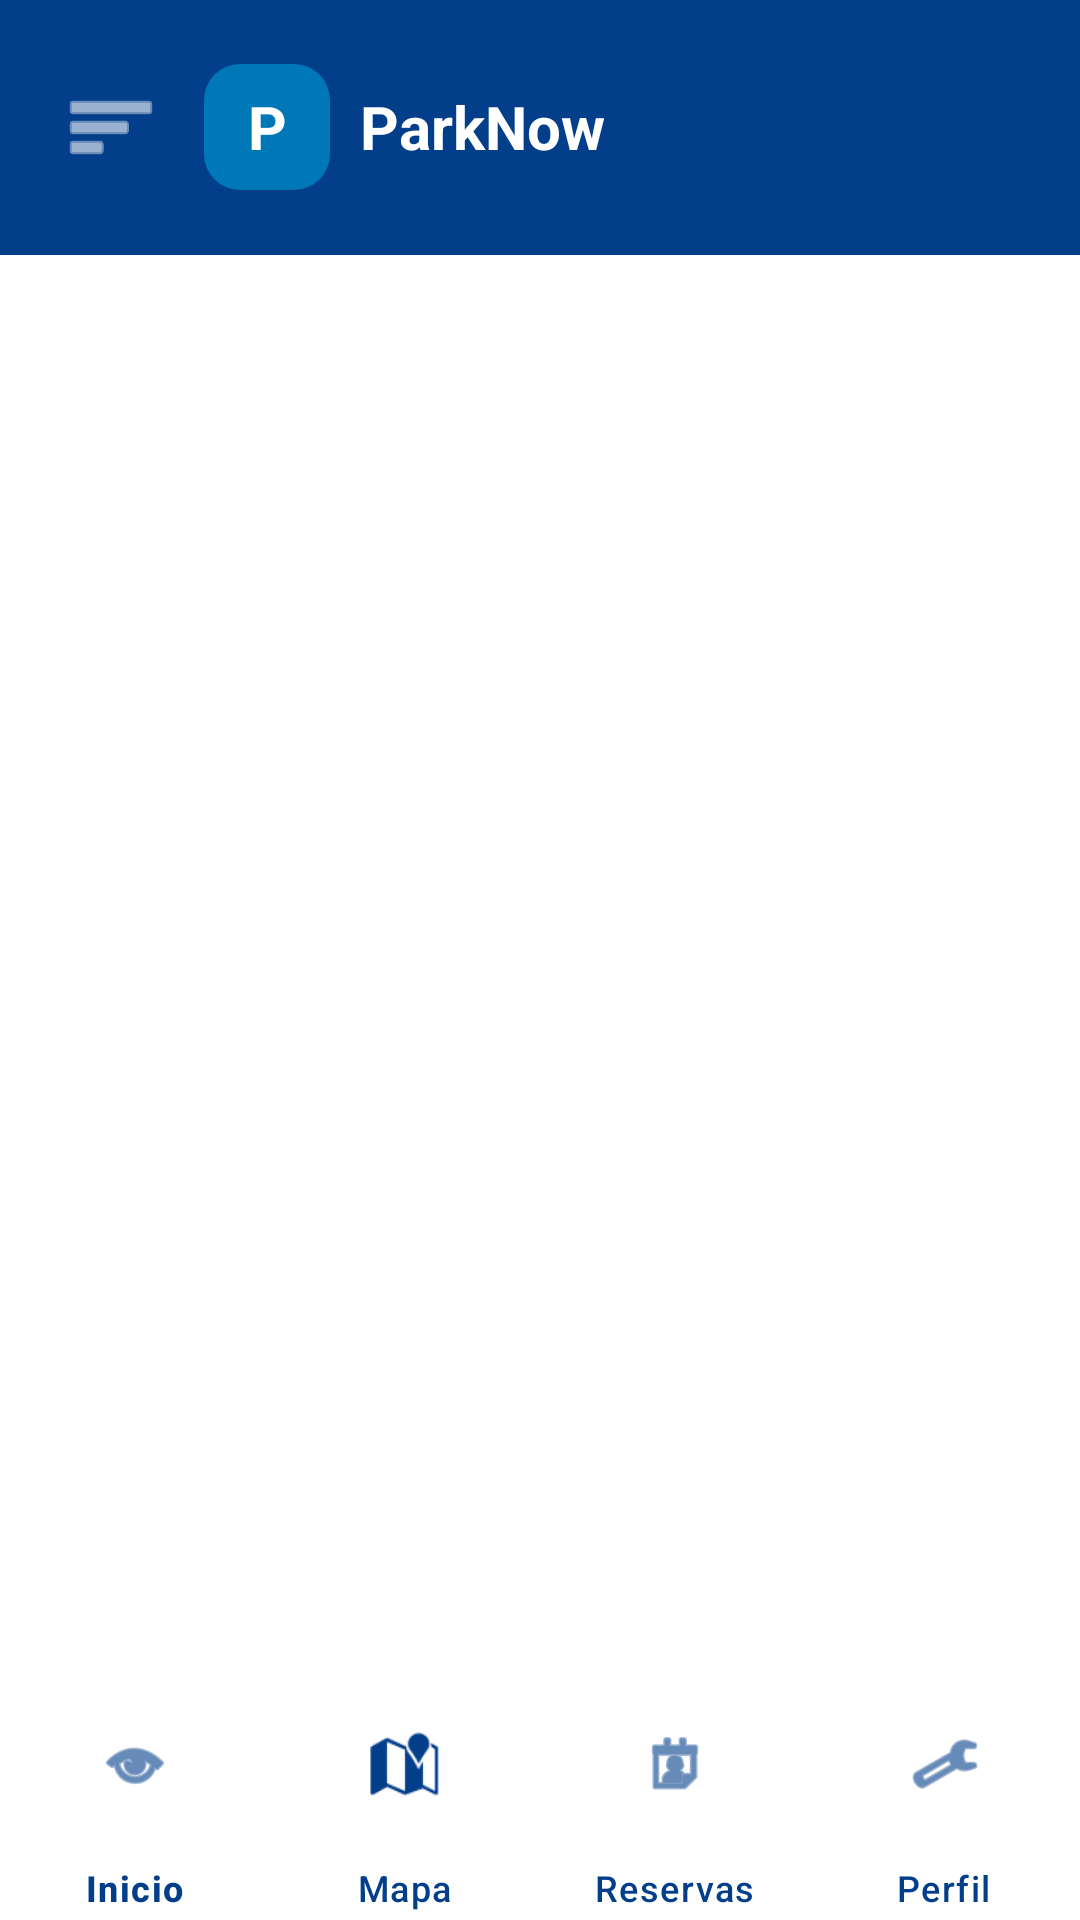

Icon click points for this 1080×1920 phone screenshot, format (x=x, y=y):
Abrir menú: (x=111, y=127)
